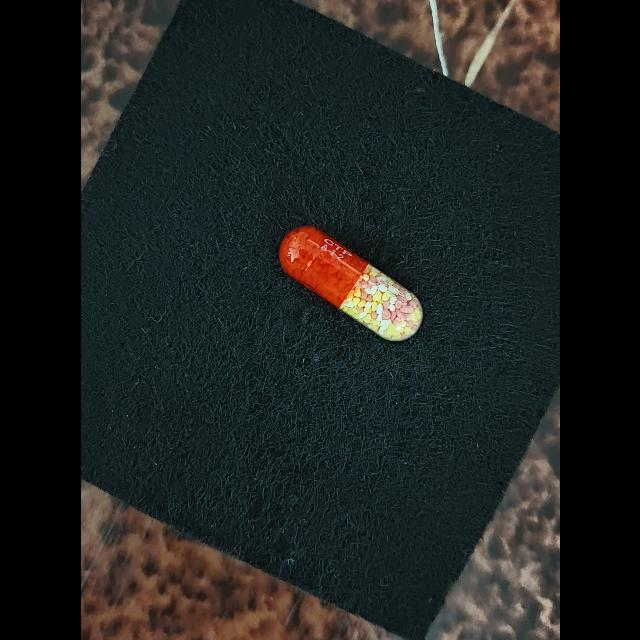Intact Capsule: (278, 226, 422, 341)
